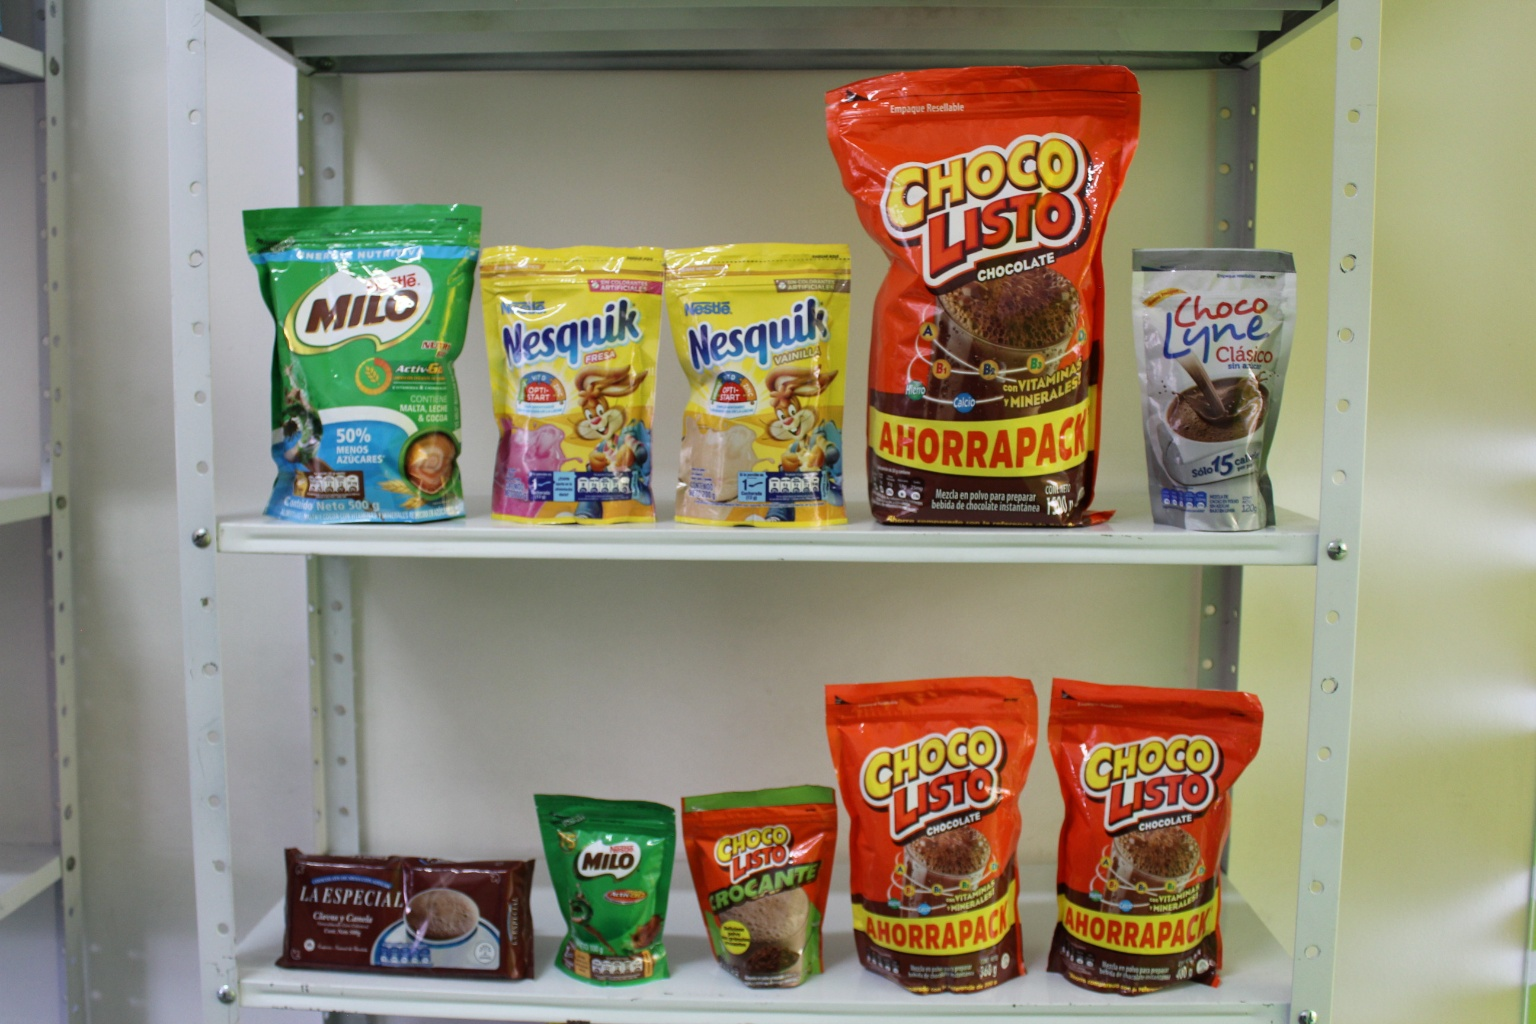COL0170102DYP10000: (669, 769, 829, 985)
COL0170103DYP1,500: (823, 51, 1139, 539)
COL0170103DYP36000: (819, 671, 1059, 1003)
COL0170103DYP40000: (1047, 669, 1271, 991)
COL0170203DYP10000: (533, 797, 687, 995)
COL0170205DYP50000: (219, 187, 475, 517)
COL0170305DYP20000: (485, 227, 667, 515)
COL0170306DYP20000: (663, 235, 871, 519)
